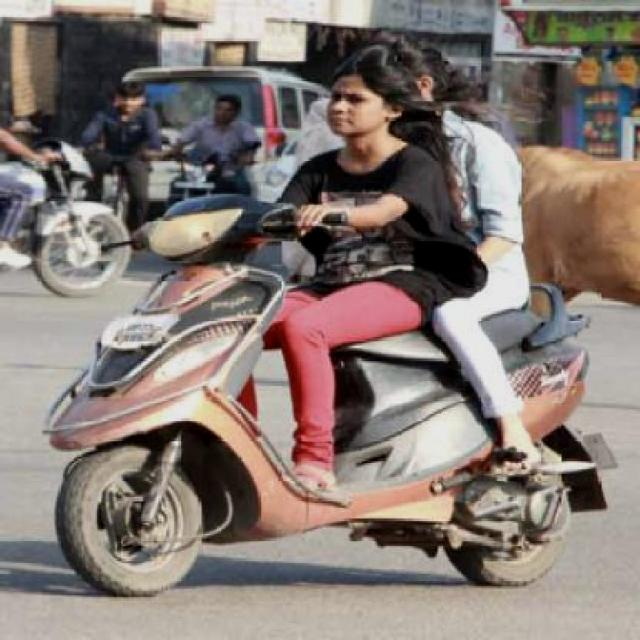Without Helmet: (323, 45, 415, 149)
